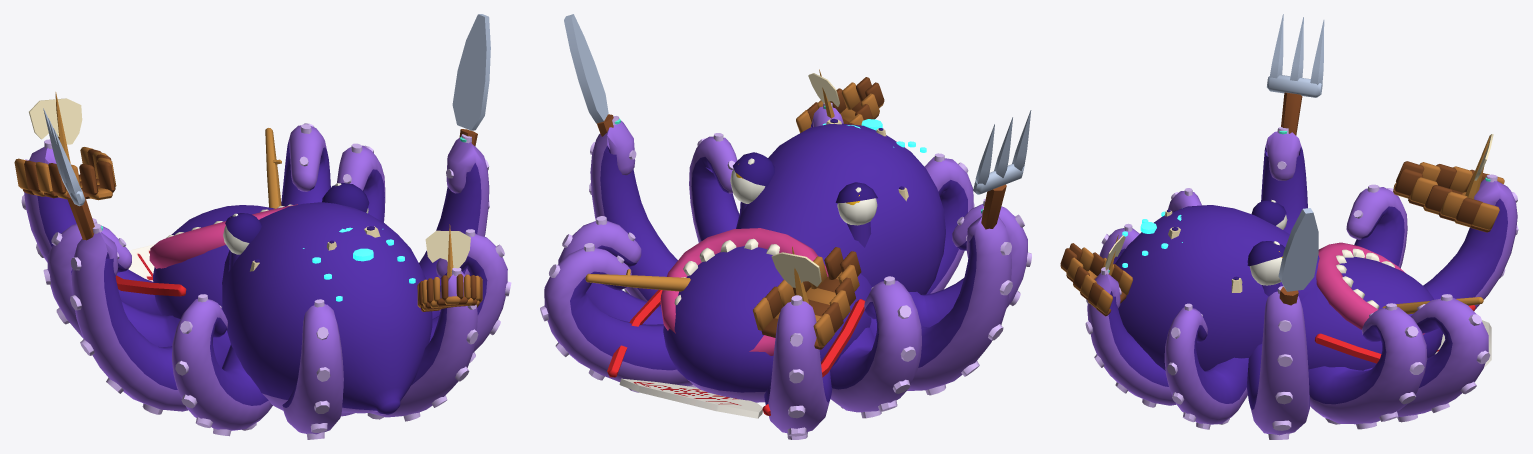
Rendered from ship_eater.glb.
The picture shows the model from 3 angles, left to right: view 1: azimuth 30°, elevation 25°; view 2: azimuth 150°, elevation 25°; view 3: azimuth 270°, elevation 25°; orthographic projection. The views are drawn at different scales.
Parts seen in each view (by area): view 1: Mantle, Arm4, ShipEater, Arm7, Arm2, Arm5, Arm9, Arm6, Arm3, Arm8, Arm1, Arm0; view 2: ShipEater, Mantle, Arm2, Arm4, Arm1, Arm9, Arm3, Arm8, Arm0, Arm5, Arm6, Arm7; view 3: Mantle, ShipEater, Arm2, Arm9, Arm0, Arm7, Arm4, Arm1, Arm8, Arm3, Arm6, Arm5.
Boxes of the visible parts, x1,y1,x2,y2 form: Mantle: [222, 202, 432, 416]; Arm4: [43, 108, 230, 414]; ShipEater: [115, 128, 369, 318]; Arm7: [367, 224, 482, 421]; Arm2: [14, 92, 162, 315]; Arm5: [172, 294, 272, 436]; Arm9: [419, 14, 490, 319]; Arm6: [282, 299, 343, 439]; Arm3: [43, 218, 180, 347]; Arm8: [429, 229, 511, 362]; Arm1: [281, 123, 330, 206]; Arm0: [336, 143, 385, 222]; ShipEater: [585, 152, 877, 418]; Mantle: [736, 119, 945, 294]; Arm2: [753, 246, 861, 439]; Arm4: [870, 110, 1031, 395]; Arm1: [540, 243, 696, 392]; Arm9: [564, 14, 677, 305]; Arm3: [830, 276, 921, 418]; Arm8: [689, 133, 739, 242]; Arm0: [558, 216, 663, 324]; Arm5: [908, 199, 1031, 327]; Arm6: [924, 153, 974, 294]; Arm7: [796, 69, 884, 132]; Mantle: [1115, 205, 1319, 371]; ShipEater: [1247, 200, 1491, 370]; Arm2: [1393, 134, 1518, 310]; Arm9: [1246, 208, 1318, 439]; Arm0: [1308, 303, 1427, 429]; Arm7: [1060, 235, 1176, 407]; Arm4: [1261, 14, 1324, 234]; Arm1: [1363, 294, 1490, 422]; Arm8: [1164, 303, 1248, 429]; Arm3: [1346, 184, 1407, 268]; Arm6: [1099, 223, 1139, 263]; Arm5: [1168, 188, 1201, 211].
Bounding box in the file's own units: 4.92 × 3.28 × 4.92.
Materials: 3 (1 with a texture image).
